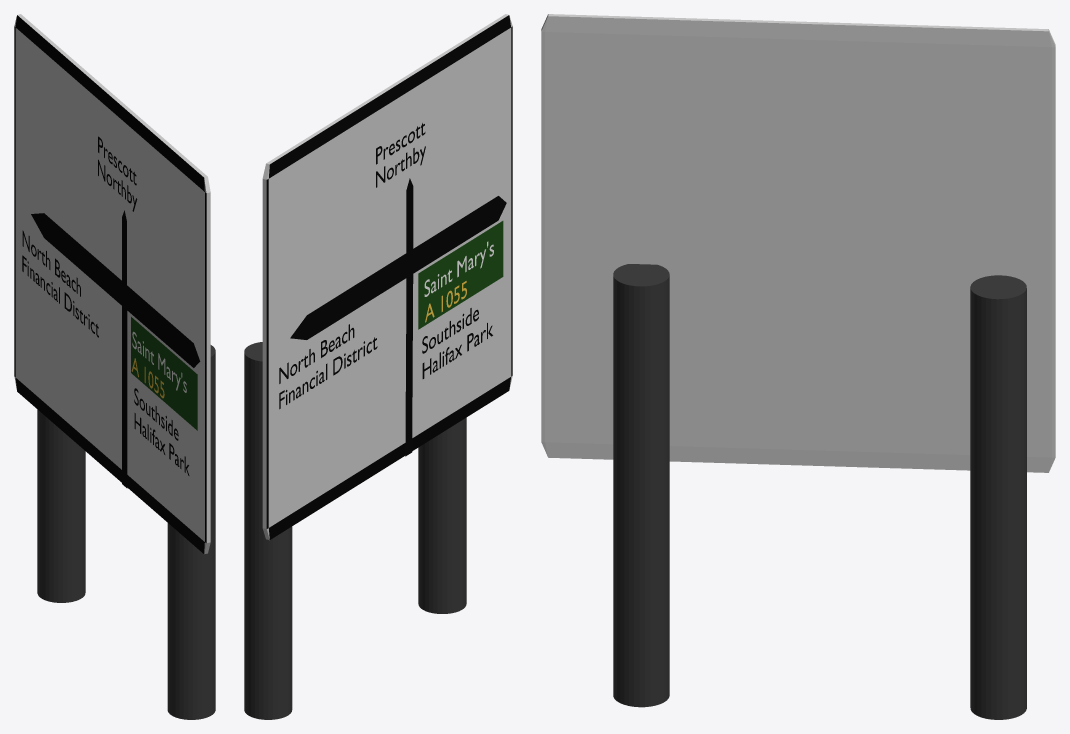
The model's file is TheOrbitalJunctionSign2.fbx.
The picture shows the model from 3 angles, left to right: view 1: azimuth 30°, elevation 25°; view 2: azimuth 150°, elevation 25°; view 3: azimuth 270°, elevation 25°; orthographic projection. The views are drawn at different scales.
Visible parts, largest first — view 1: Cube.030, Cylinder.001, Cylinder.002, DirectionPlaneM, Plane, Text.006, Text.005, Text.008, Text.004, Text.009; view 2: Cube.030, Cylinder.002, Cylinder.001, DirectionPlaneM, Plane, Text.006, Text.005, Text.008, Text.004; view 3: Cube.030, Cylinder.002, Cylinder.001.
Boxes of the visible parts, left/top/right/bottom form: Cube.030: left=14, top=14, right=210, bottom=554; Cylinder.001: left=167, top=345, right=215, bottom=719; Cylinder.002: left=37, top=409, right=85, bottom=602; DirectionPlaneM: left=31, top=210, right=200, bottom=488; Plane: left=131, top=317, right=197, bottom=430; Text.006: left=22, top=255, right=98, bottom=337; Text.005: left=22, top=230, right=80, bottom=296; Text.008: left=134, top=413, right=189, bottom=475; Text.004: left=132, top=331, right=186, bottom=392; Text.009: left=134, top=388, right=178, bottom=440; Cube.030: left=262, top=14, right=512, bottom=540; Cylinder.002: left=244, top=342, right=292, bottom=719; Cylinder.001: left=418, top=417, right=466, bottom=613; DirectionPlaneM: left=290, top=178, right=506, bottom=456; Plane: left=418, top=221, right=503, bottom=329; Text.006: left=279, top=337, right=377, bottom=409; Text.005: left=279, top=324, right=354, bottom=383; Text.008: left=422, top=323, right=492, bottom=378; Text.004: left=424, top=241, right=493, bottom=296; Cube.030: left=541, top=14, right=1055, bottom=472; Cylinder.002: left=970, top=275, right=1026, bottom=719; Cylinder.001: left=613, top=264, right=669, bottom=707.
Size of the model in its own units: 108 by 824 by 577.
